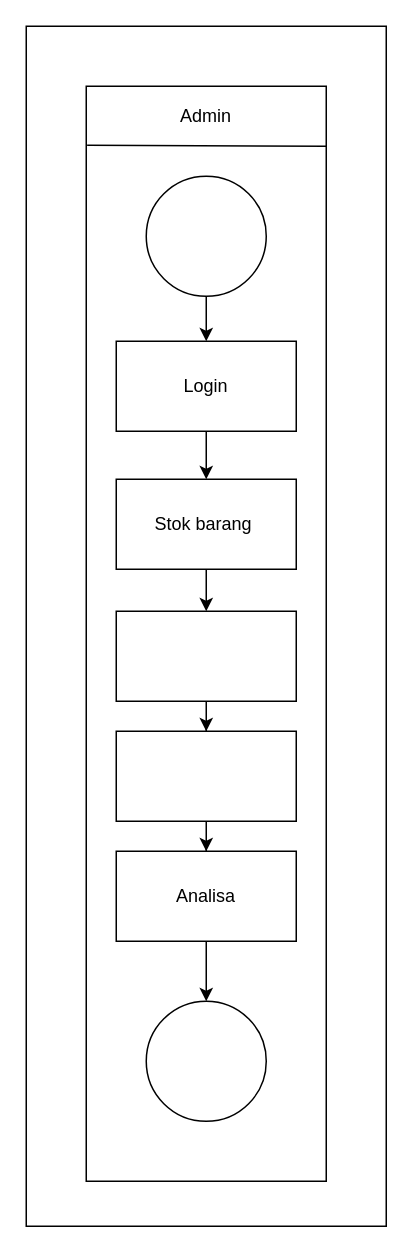
This 413x1253 diagram has some shape labels left out. The box of each missing label's shape, as (x1, y1, x2, y2) in pixels:
Bobot barang: (115, 730, 296, 821)
kriteria: (115, 610, 296, 701)
